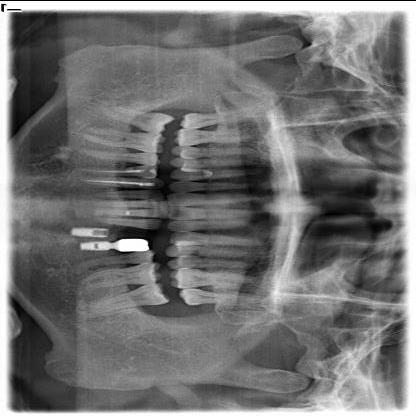Bicon: (70, 226, 112, 236), (78, 240, 116, 250)
